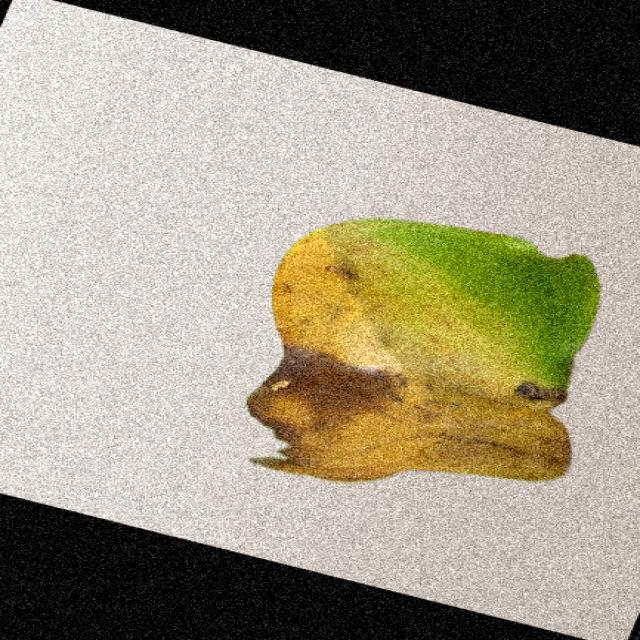daun berpenyakit kuning: (247, 220, 600, 482)
